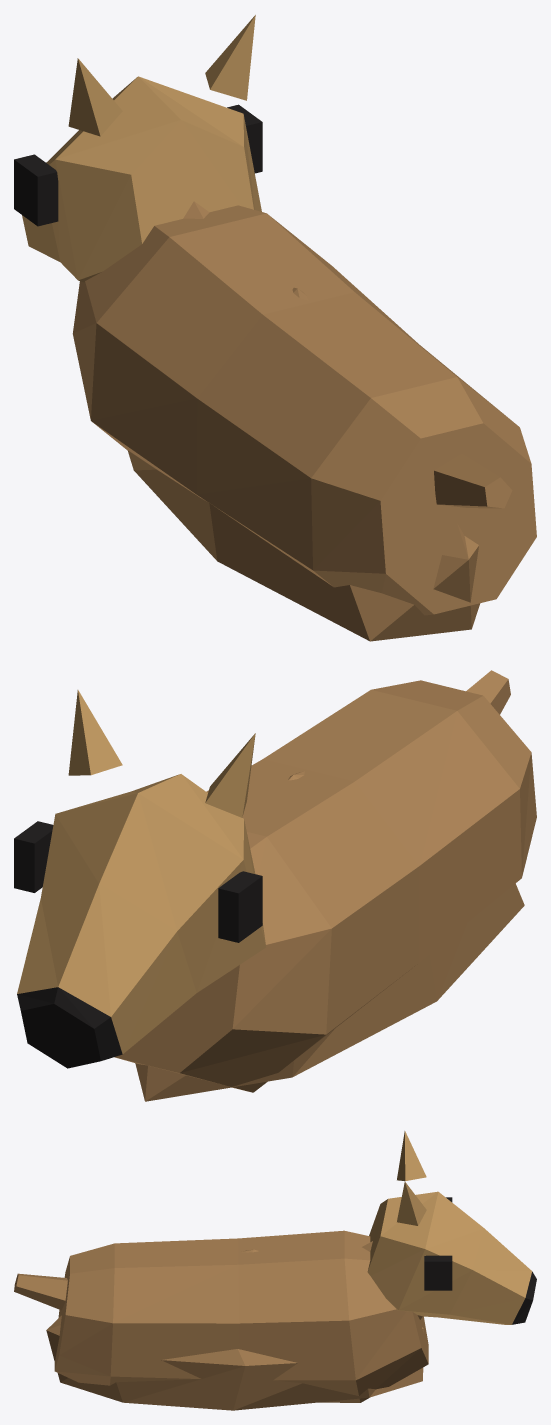
Rendered from animal_yorkie.obj.
The picture shows the model from 3 angles, top to bottom: view 1: azimuth 30°, elevation 25°; view 2: azimuth 150°, elevation 25°; view 3: azimuth 270°, elevation 25°; orthographic projection. The views are drawn at different scales.
Visible parts, largest first — view 1: animal_yorkie; view 2: animal_yorkie; view 3: animal_yorkie.
Boxes of the visible parts, <box> form: animal_yorkie: <box>14,15,536,641</box>; animal_yorkie: <box>14,670,536,1101</box>; animal_yorkie: <box>14,1131,536,1410</box>.
Bounding box in the file's own units: 0.1877 × 0.3023 × 0.5989.
